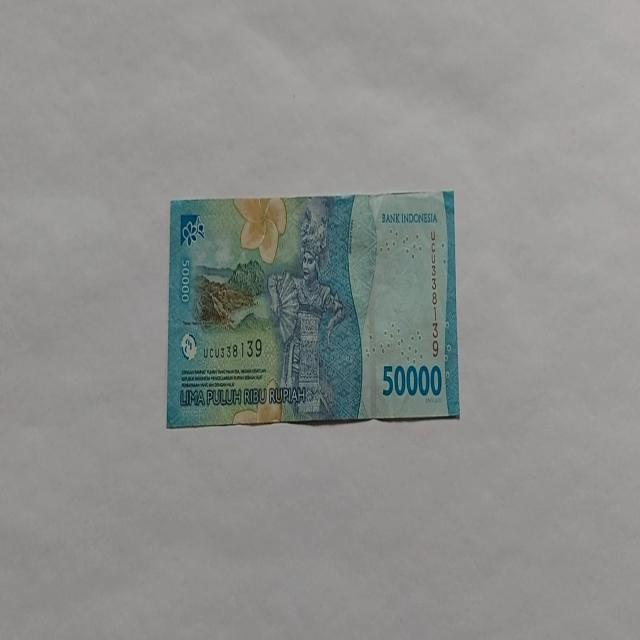lima puluh ribu rupiah: (166, 190, 460, 428)
